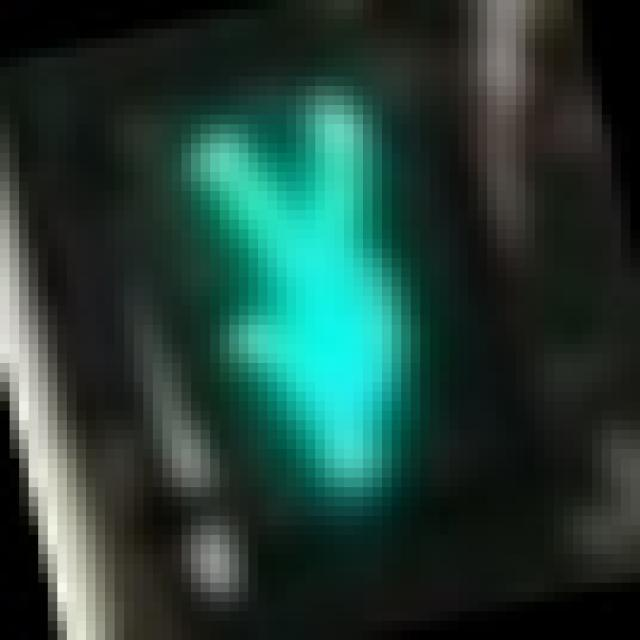geen-crossing: (172, 76, 458, 535)
